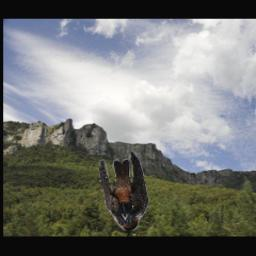Swallow: (98, 151, 148, 230)
